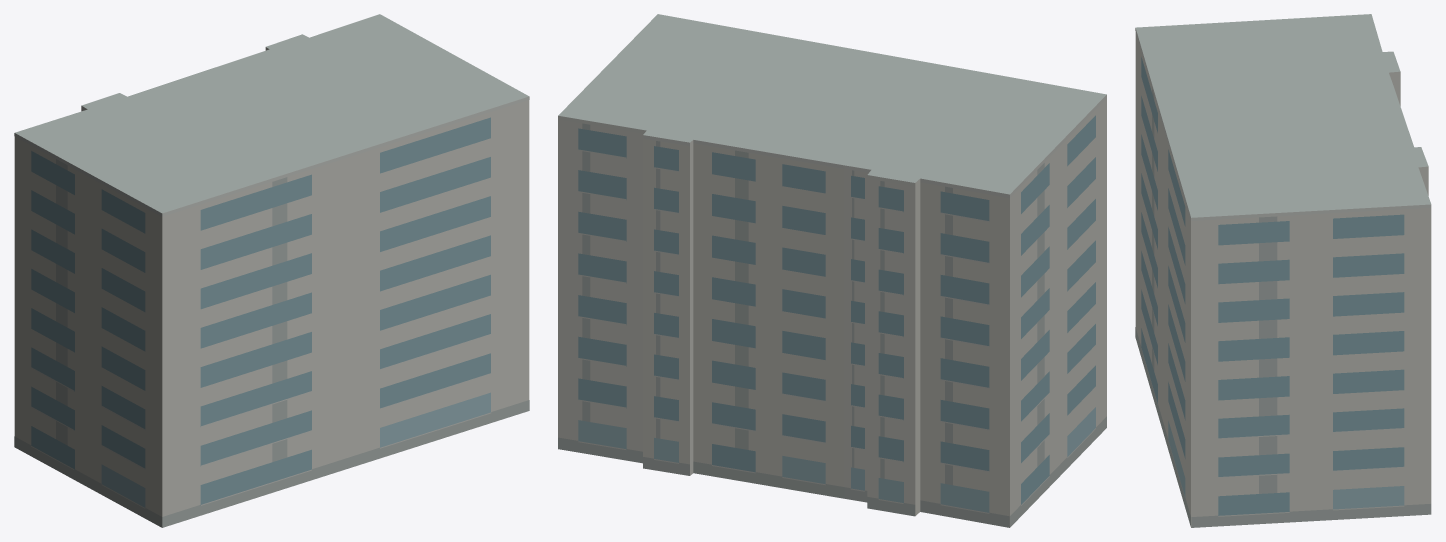
File: survey-upis-32995147.glb
3 views of the same model, side by side, from view 1: azimuth 30°, elevation 25°; view 2: azimuth 150°, elevation 25°; view 3: azimuth 270°, elevation 25° (orthographic). The views are drawn at different scales.
Visible parts, largest first — view 1: survey-upis-32995147.tmp; view 2: survey-upis-32995147.tmp; view 3: survey-upis-32995147.tmp.
Part boxes in pixels (x1,y1,x2,y2): survey-upis-32995147.tmp: (14,14,529,527); survey-upis-32995147.tmp: (558,14,1106,527); survey-upis-32995147.tmp: (1135,14,1431,527).
Size of the model in its own units: 31.23 by 22.15 by 19.16.
